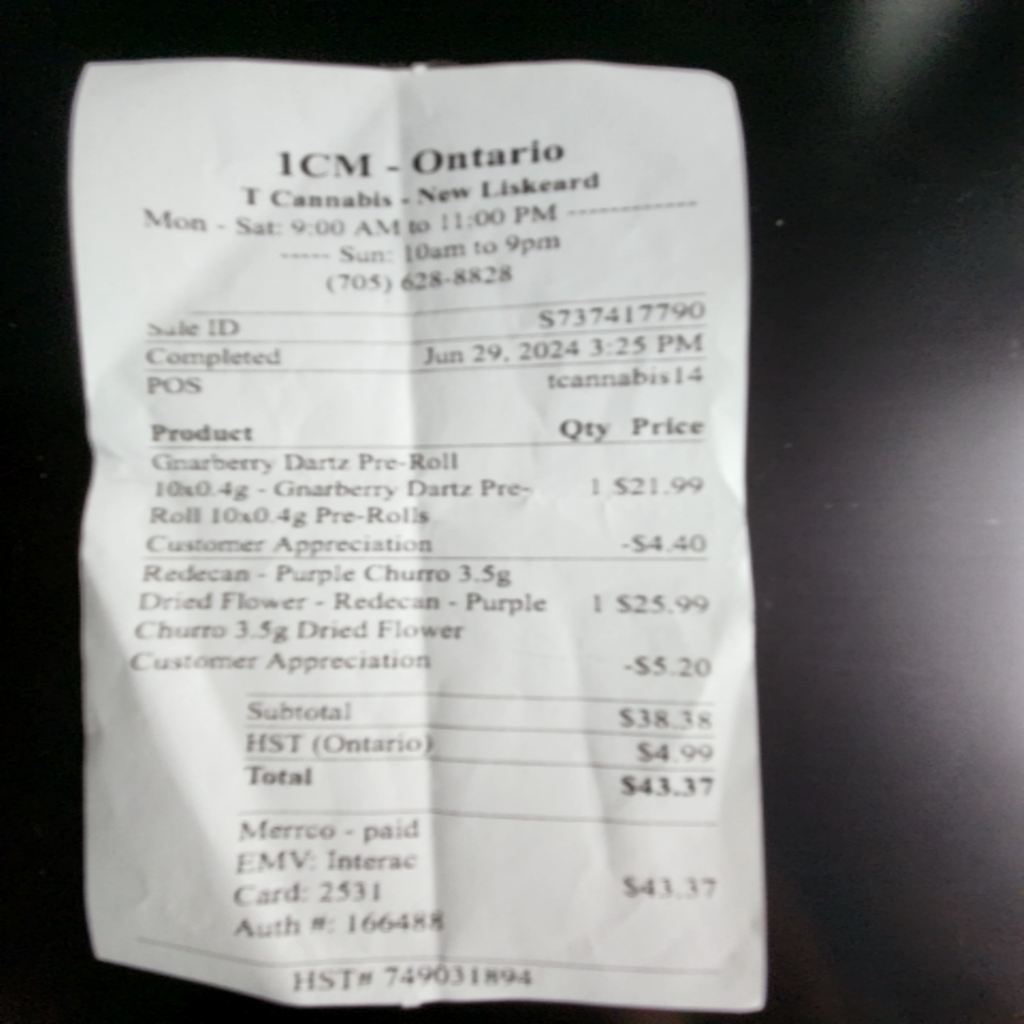recipt: (63, 48, 779, 1020)
